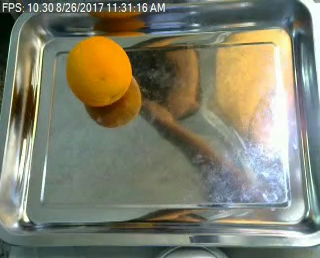Orange: (63, 36, 129, 108)
